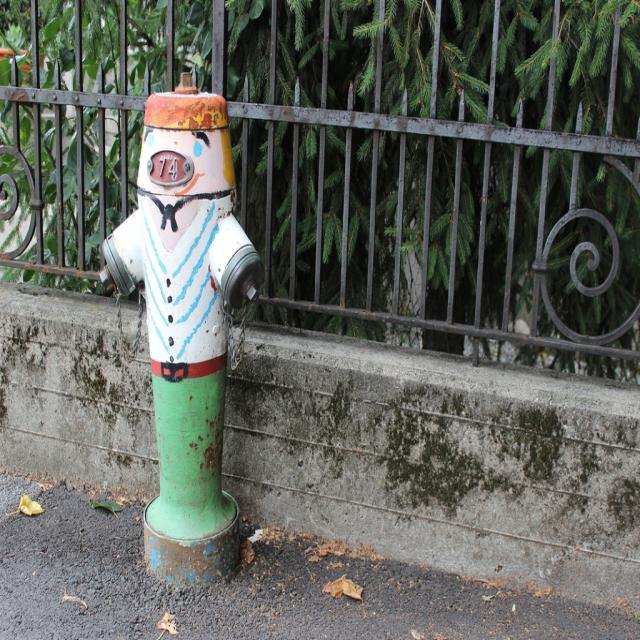fire_hydrant: (98, 73, 266, 588)
